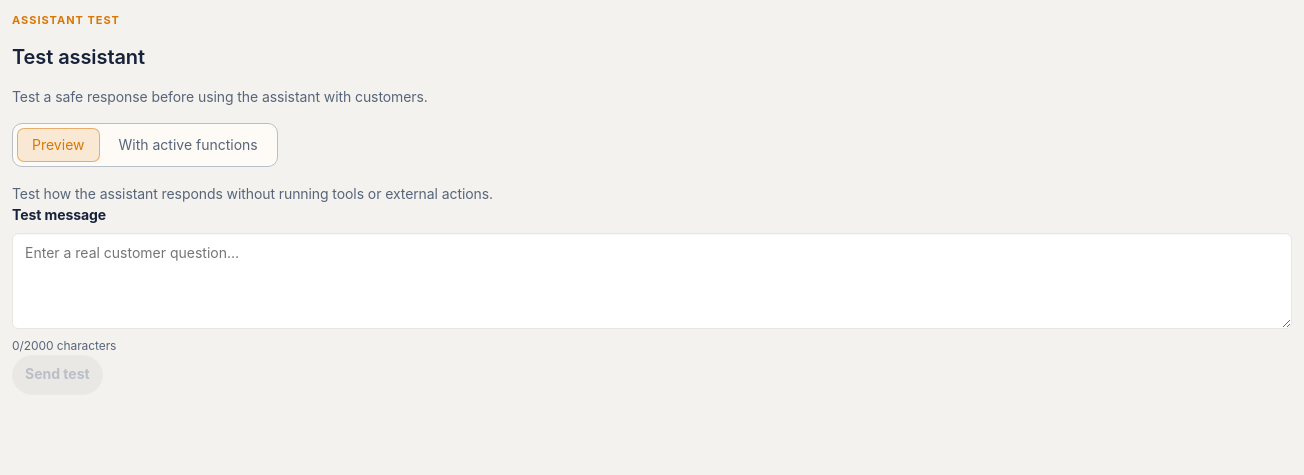
it: maps safe HTTP errors and does not render raw diagnostics
The image size is (1304, 475).
Step 1. Type "Question" into the text box → (652, 280), box [12, 232, 1292, 328]
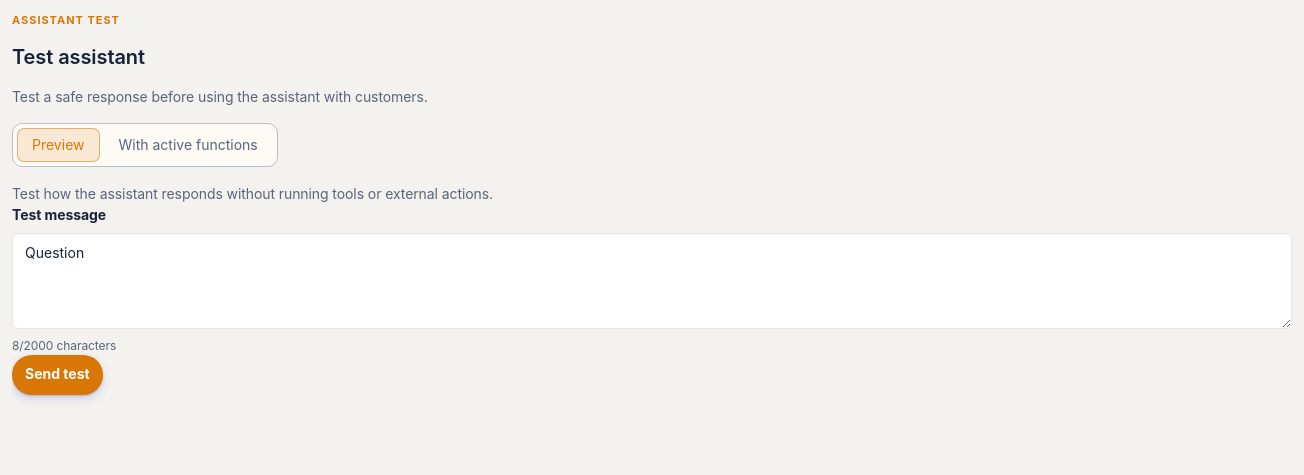
Step 2. Click the button "Send test" → (57, 374), box [12, 354, 103, 394]
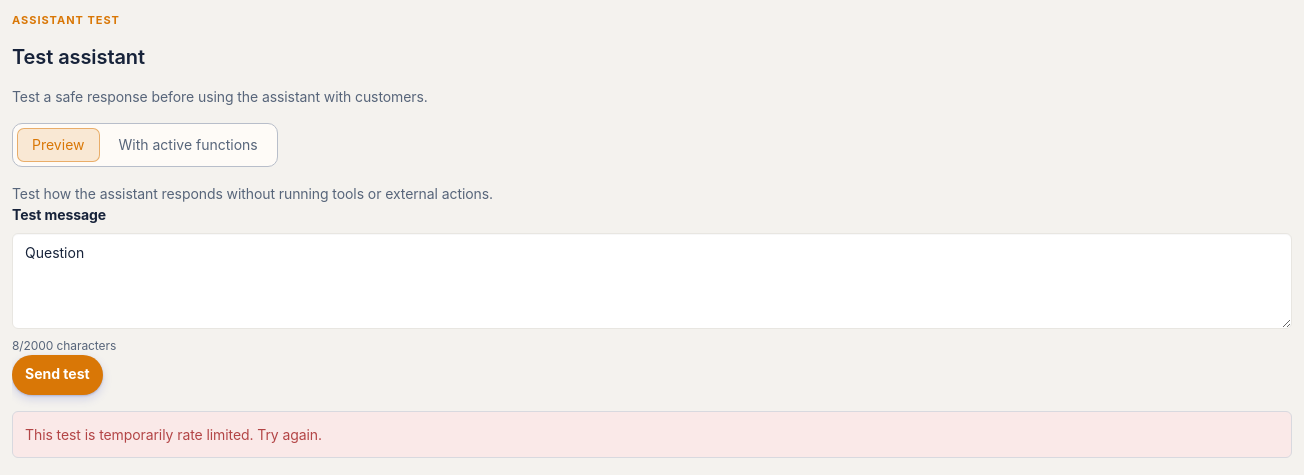
Now the message shows "temporarily rate limited", box [25, 426, 322, 442]
